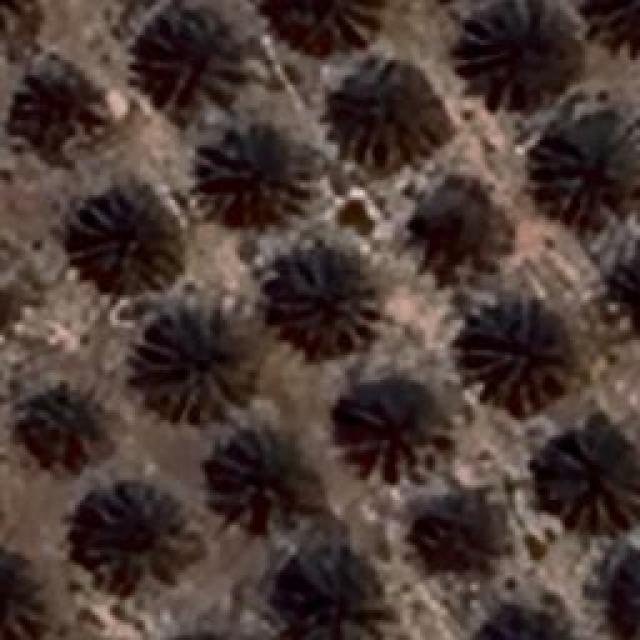PalmTree: (29, 83, 623, 592), (132, 307, 258, 425), (200, 425, 318, 533), (456, 7, 576, 112), (465, 302, 573, 408), (75, 486, 190, 584), (332, 388, 450, 482), (275, 250, 380, 355), (330, 65, 440, 163), (75, 188, 180, 290), (140, 15, 242, 110), (281, 554, 394, 638), (10, 52, 108, 146), (532, 130, 632, 220), (205, 134, 305, 224), (547, 440, 635, 532), (252, 0, 386, 60), (406, 178, 492, 258), (421, 496, 504, 574), (29, 392, 99, 456), (577, 0, 640, 61), (473, 611, 578, 640), (613, 546, 640, 640), (621, 546, 640, 639), (1, 0, 34, 39), (154, 630, 251, 640)
